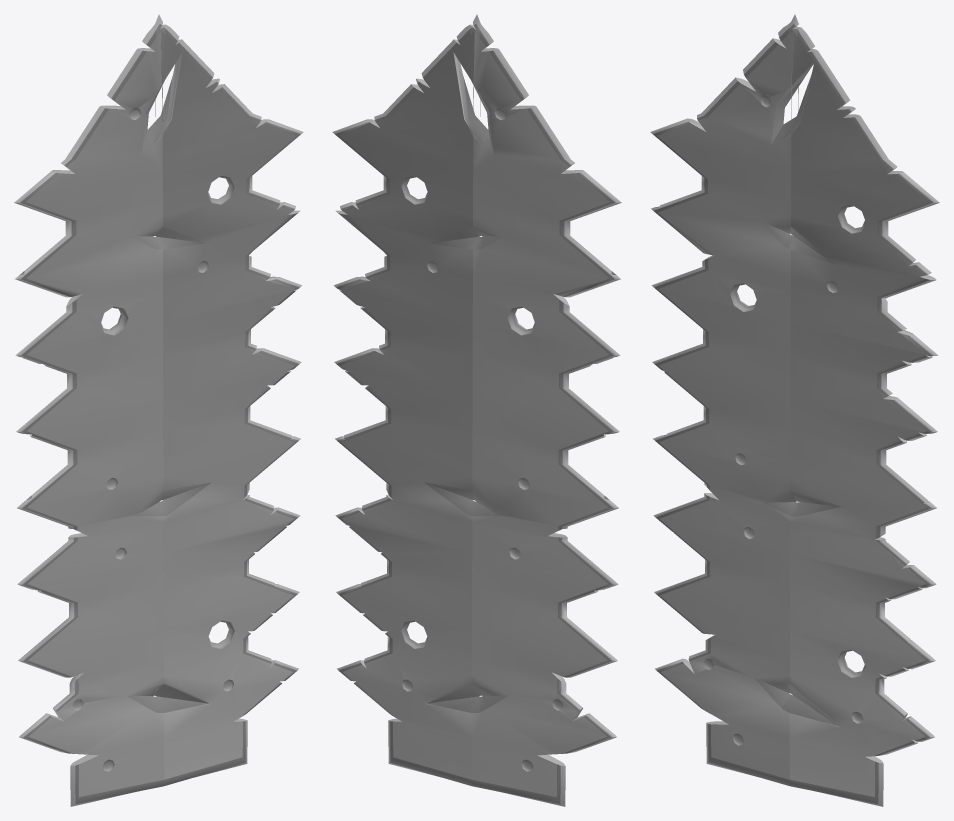
The model's file is stone_blade_bubbles_050.glb.
The picture shows the model from 3 angles, left to right: view 1: azimuth 30°, elevation 25°; view 2: azimuth 150°, elevation 25°; view 3: azimuth 330°, elevation 25°; orthographic projection.
Parts seen in each view (by area): view 1: stone_blade_bubbles.050; view 2: stone_blade_bubbles.050; view 3: stone_blade_bubbles.050.
Part boxes in pixels (x1,y1,x2,y2): stone_blade_bubbles.050: (14,14,303,806); stone_blade_bubbles.050: (332,14,621,806); stone_blade_bubbles.050: (650,14,939,806).
Bounding box in the file's own units: 4.48 × 11.41 × 0.2879.
1 material, 1 textured.
